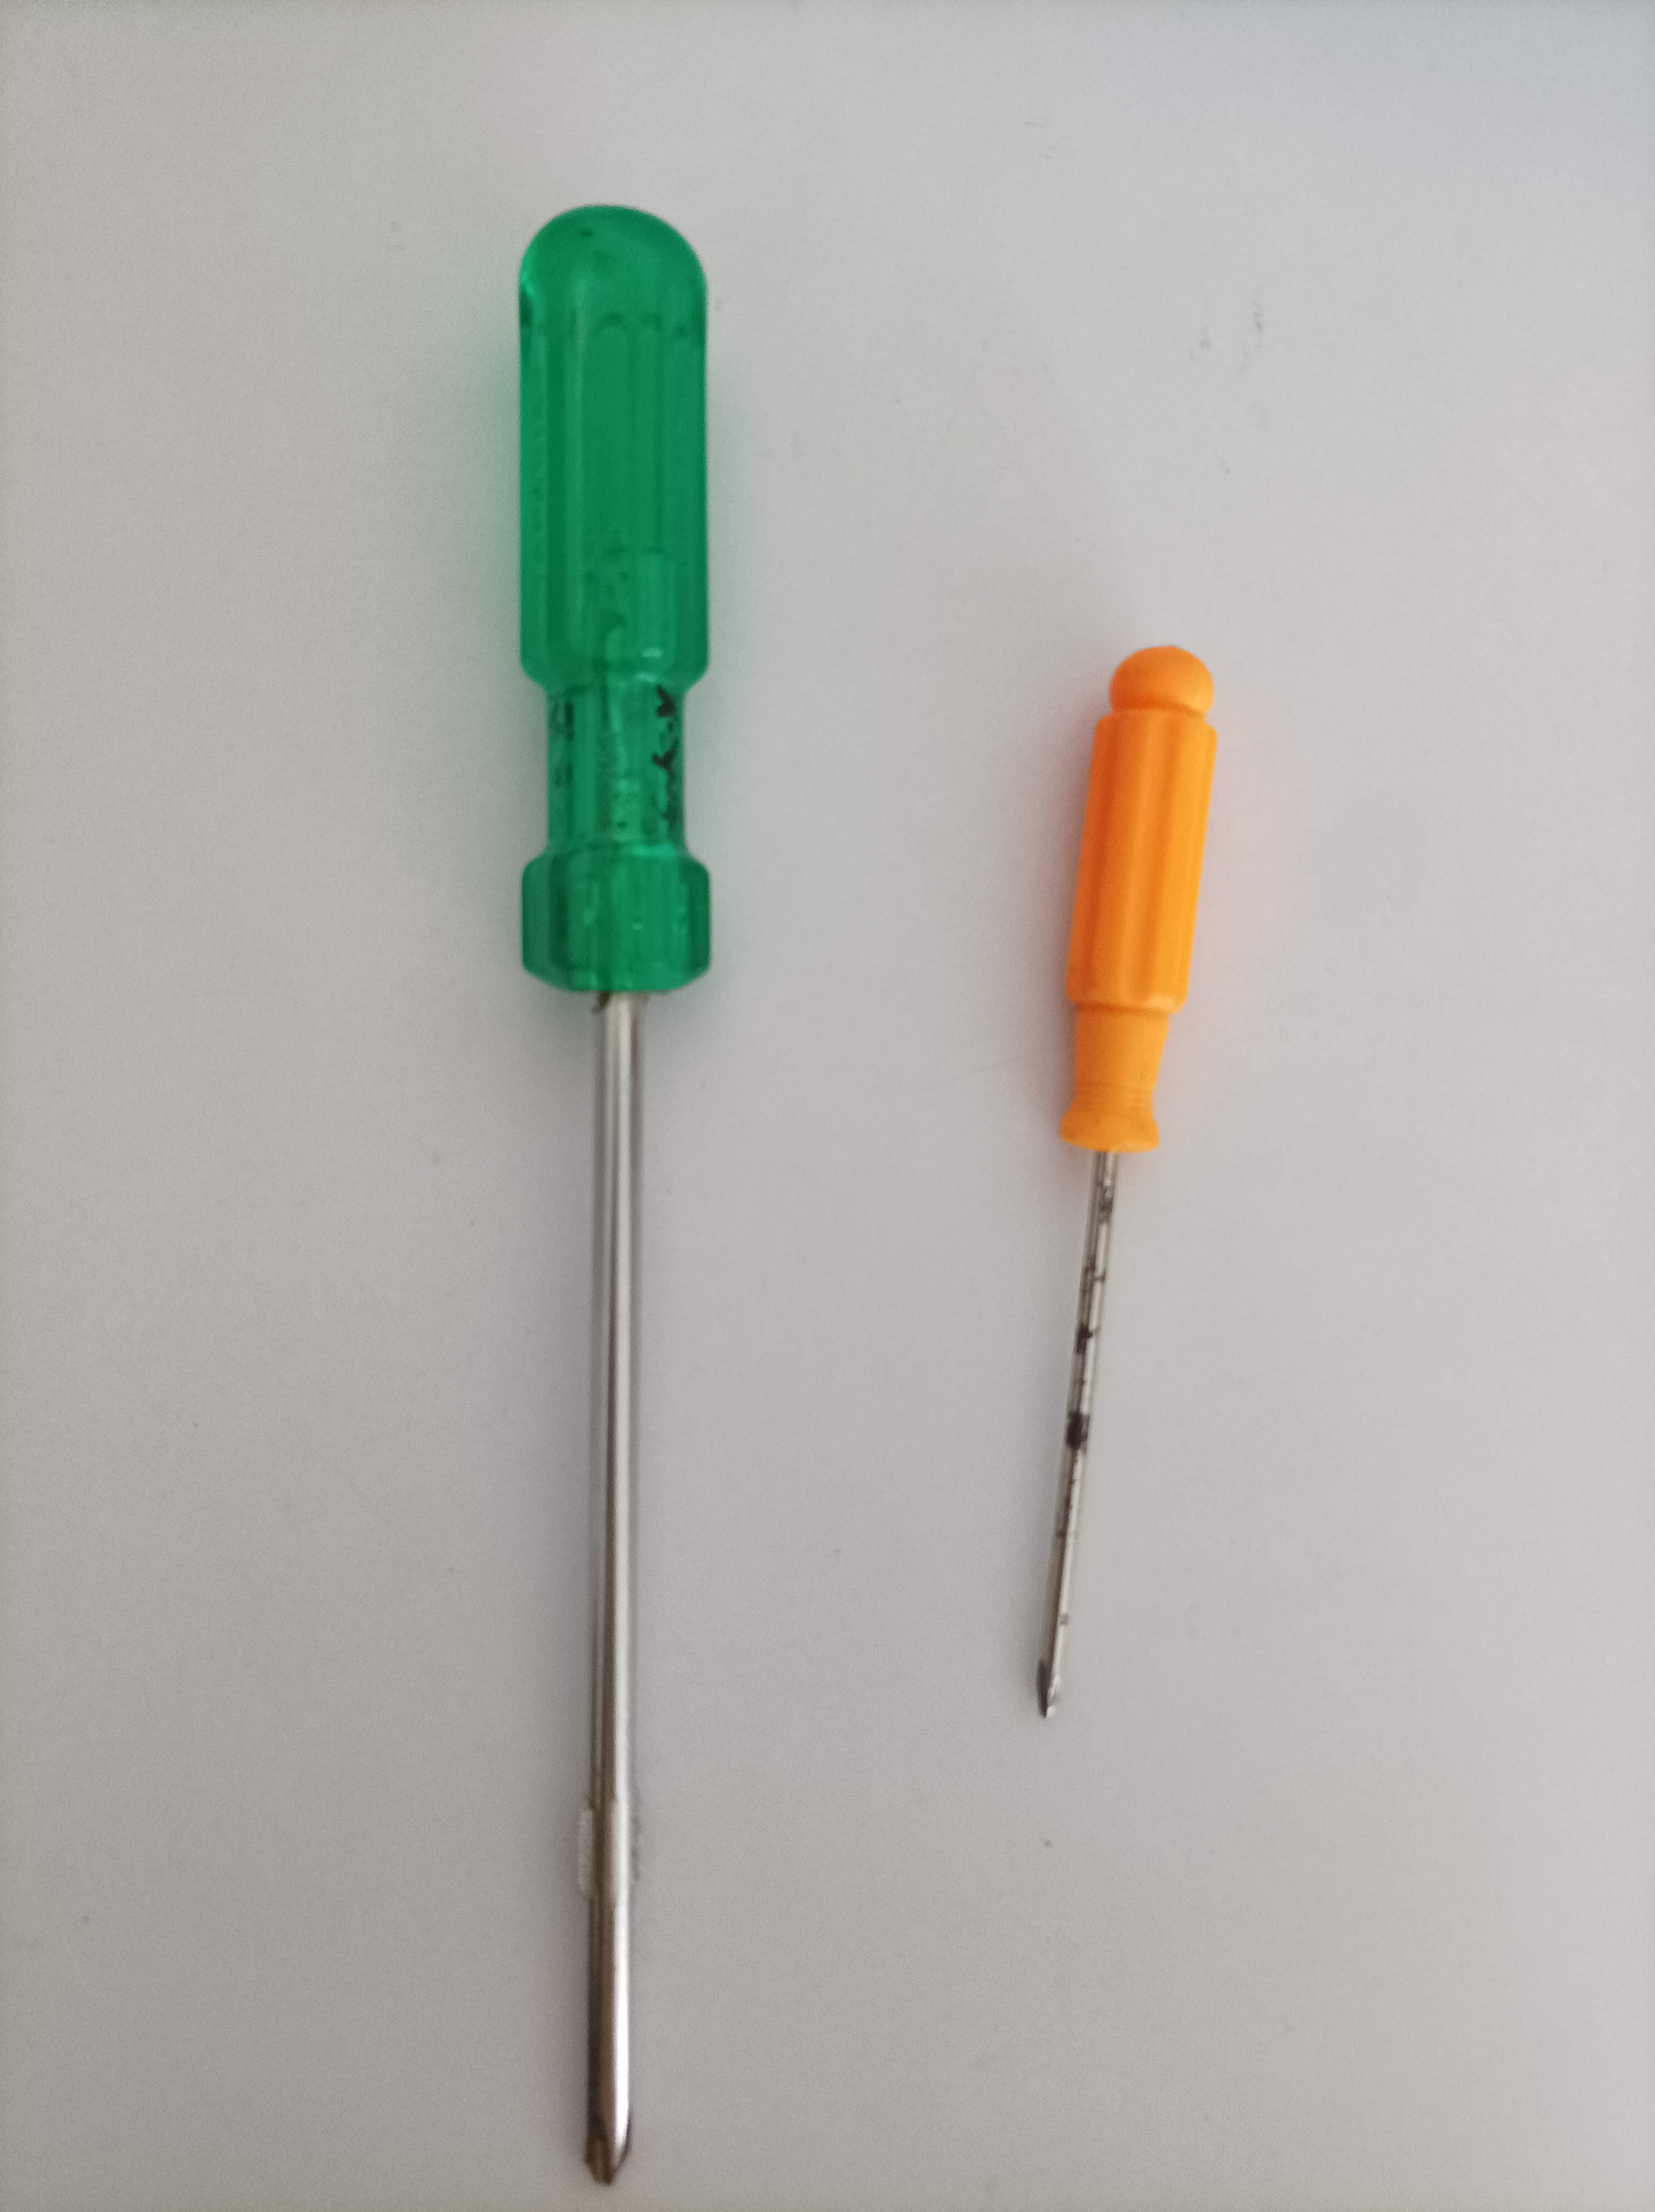screwdriver: (504, 198, 730, 2193), (1019, 631, 1231, 1727)
